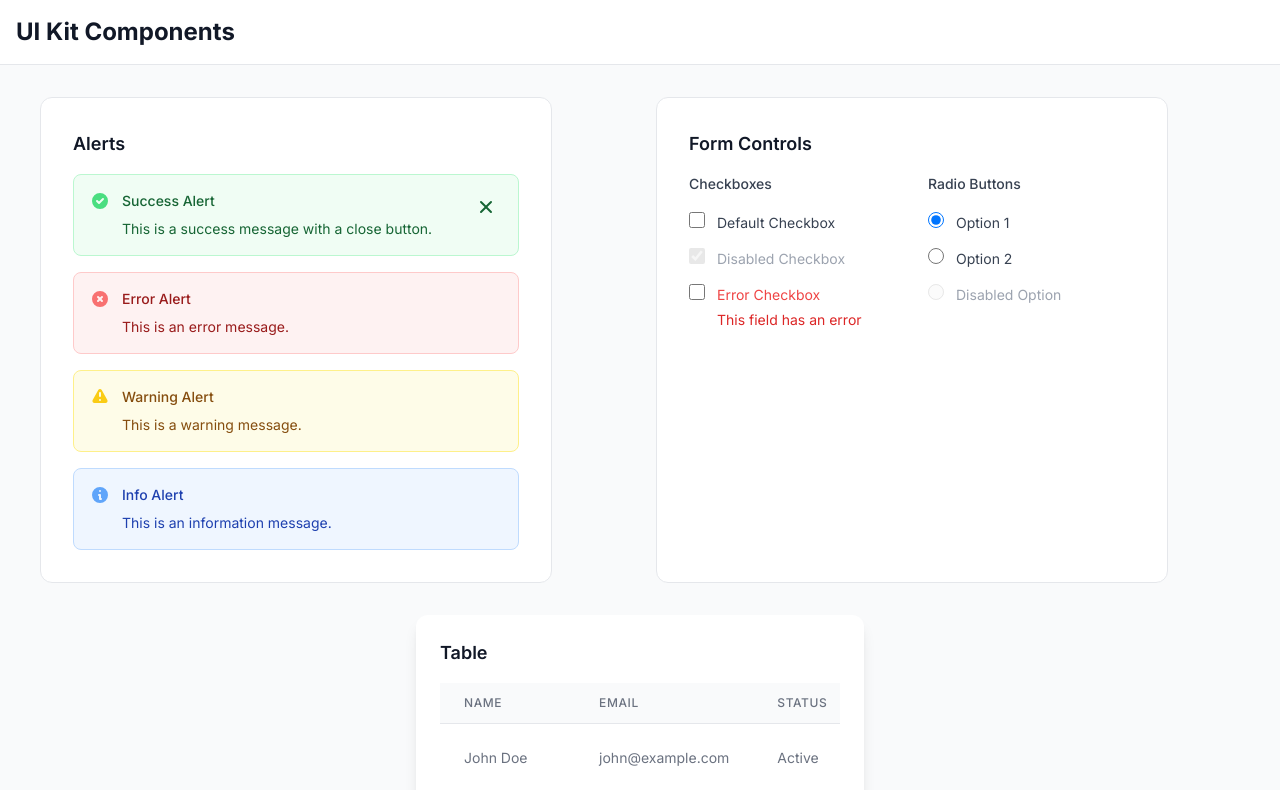
Scenario: UIKitShowcase Component › handles alert dismissal
This screenshot has width=1280, height=790.
Expected: the text "Success Alert" is shown, [122,192,215,209]
What coordinates should you click on to do the following:
click the button named "dismiss"
I would click on:
 (486, 207)
Its box is [470,191,502,223].
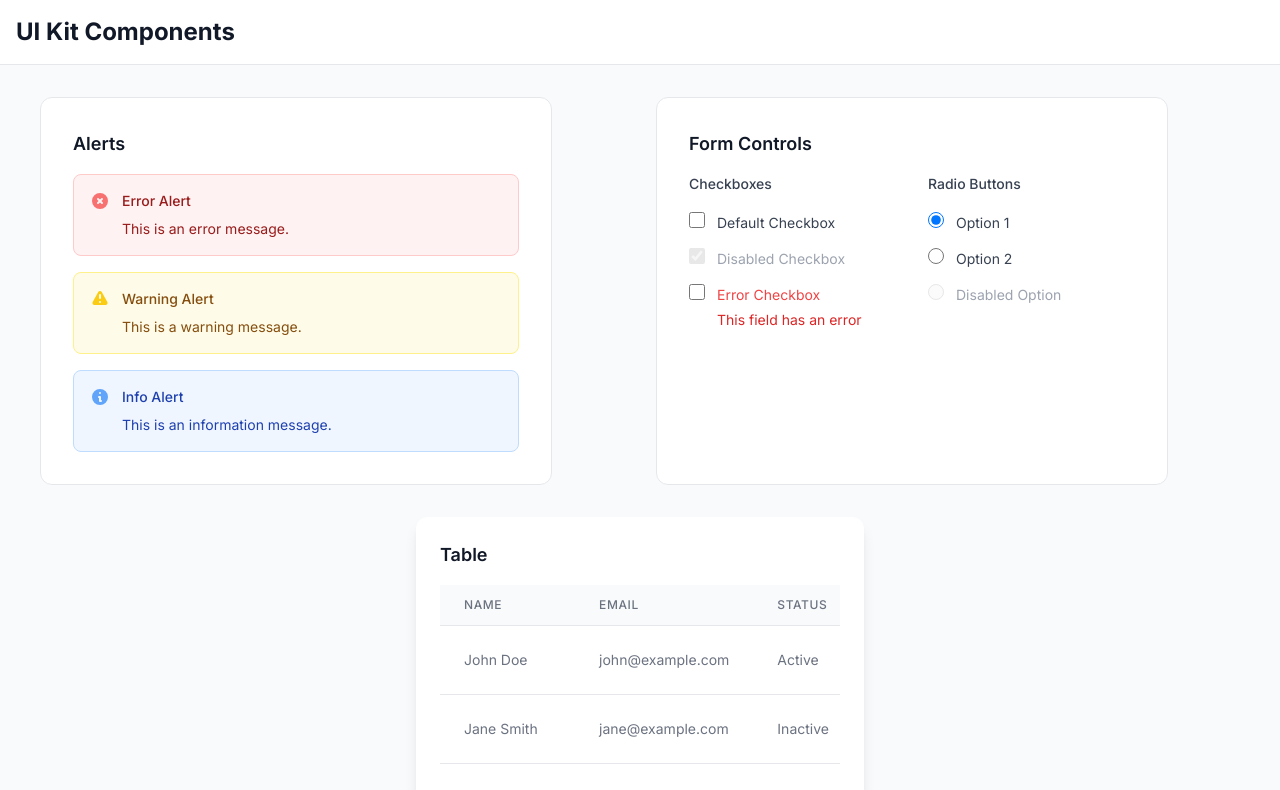
Now the heading "Success Alert" is gone
